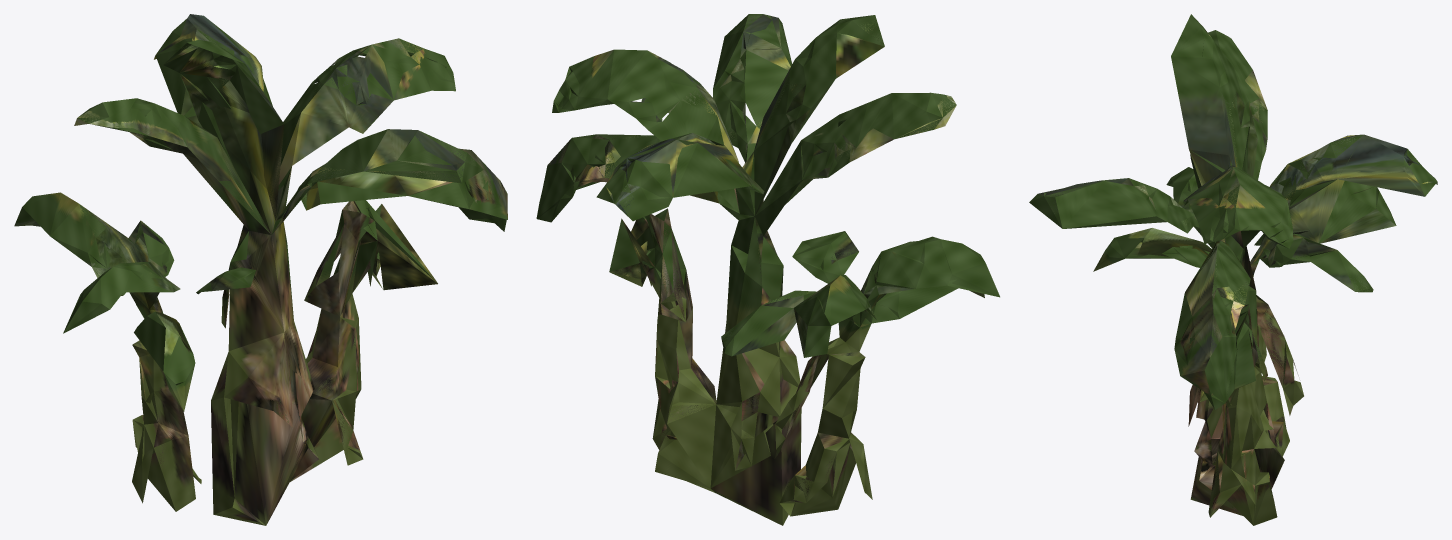
File: banana_clump_reduced.glb
3 renders of one model, left to right at view 1: azimuth 30°, elevation 25°; view 2: azimuth 150°, elevation 25°; view 3: azimuth 270°, elevation 25°, orthographic. The views are drawn at different scales.
Parts seen in each view (by area): view 1: CoveredSurface; view 2: CoveredSurface; view 3: CoveredSurface.
Boxes of the visible parts, x1,y1,x2,y2 form: CoveredSurface: [14, 14, 507, 525]; CoveredSurface: [536, 14, 999, 525]; CoveredSurface: [1029, 14, 1437, 525].
Bounding box in the file's own units: 1.83 × 1.96 × 1.58.
Materials: 1 (1 with a texture image).
